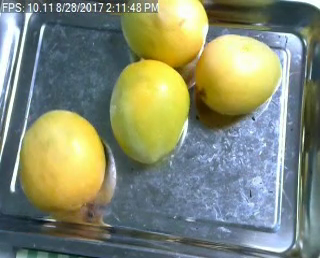Mango: (21, 112, 104, 212), (108, 61, 190, 162), (196, 33, 280, 113), (120, 0, 207, 63)
